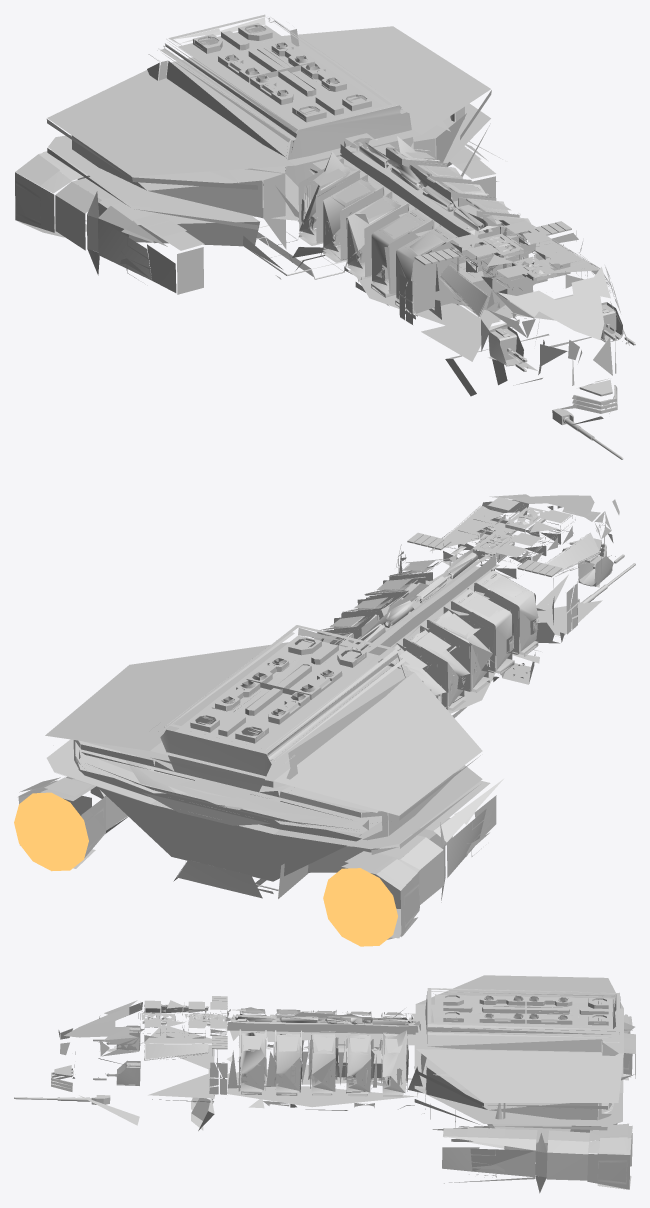
File: cargo_game_lod.glb
3 views of the same model, one above another, from view 1: azimuth 30°, elevation 25°; view 2: azimuth 150°, elevation 25°; view 3: azimuth 270°, elevation 25° (orthographic). The views are drawn at different scales.
Parts seen in each view (by area): view 1: cargo_game_lod; view 2: cargo_game_lod; view 3: cargo_game_lod.
Boxes of the visible parts, box(x1,y1,x2,y2) form: cargo_game_lod: box(15, 14, 635, 459); cargo_game_lod: box(14, 494, 635, 946); cargo_game_lod: box(14, 975, 635, 1193).
Bounding box in the file's own units: 30.67 × 13.25 × 57.67.
